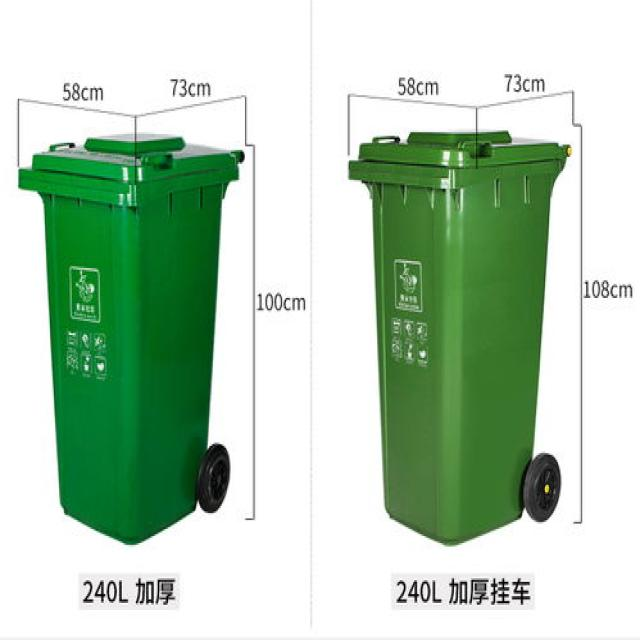garbage_bin: (346, 128, 571, 546), (18, 129, 244, 541)
